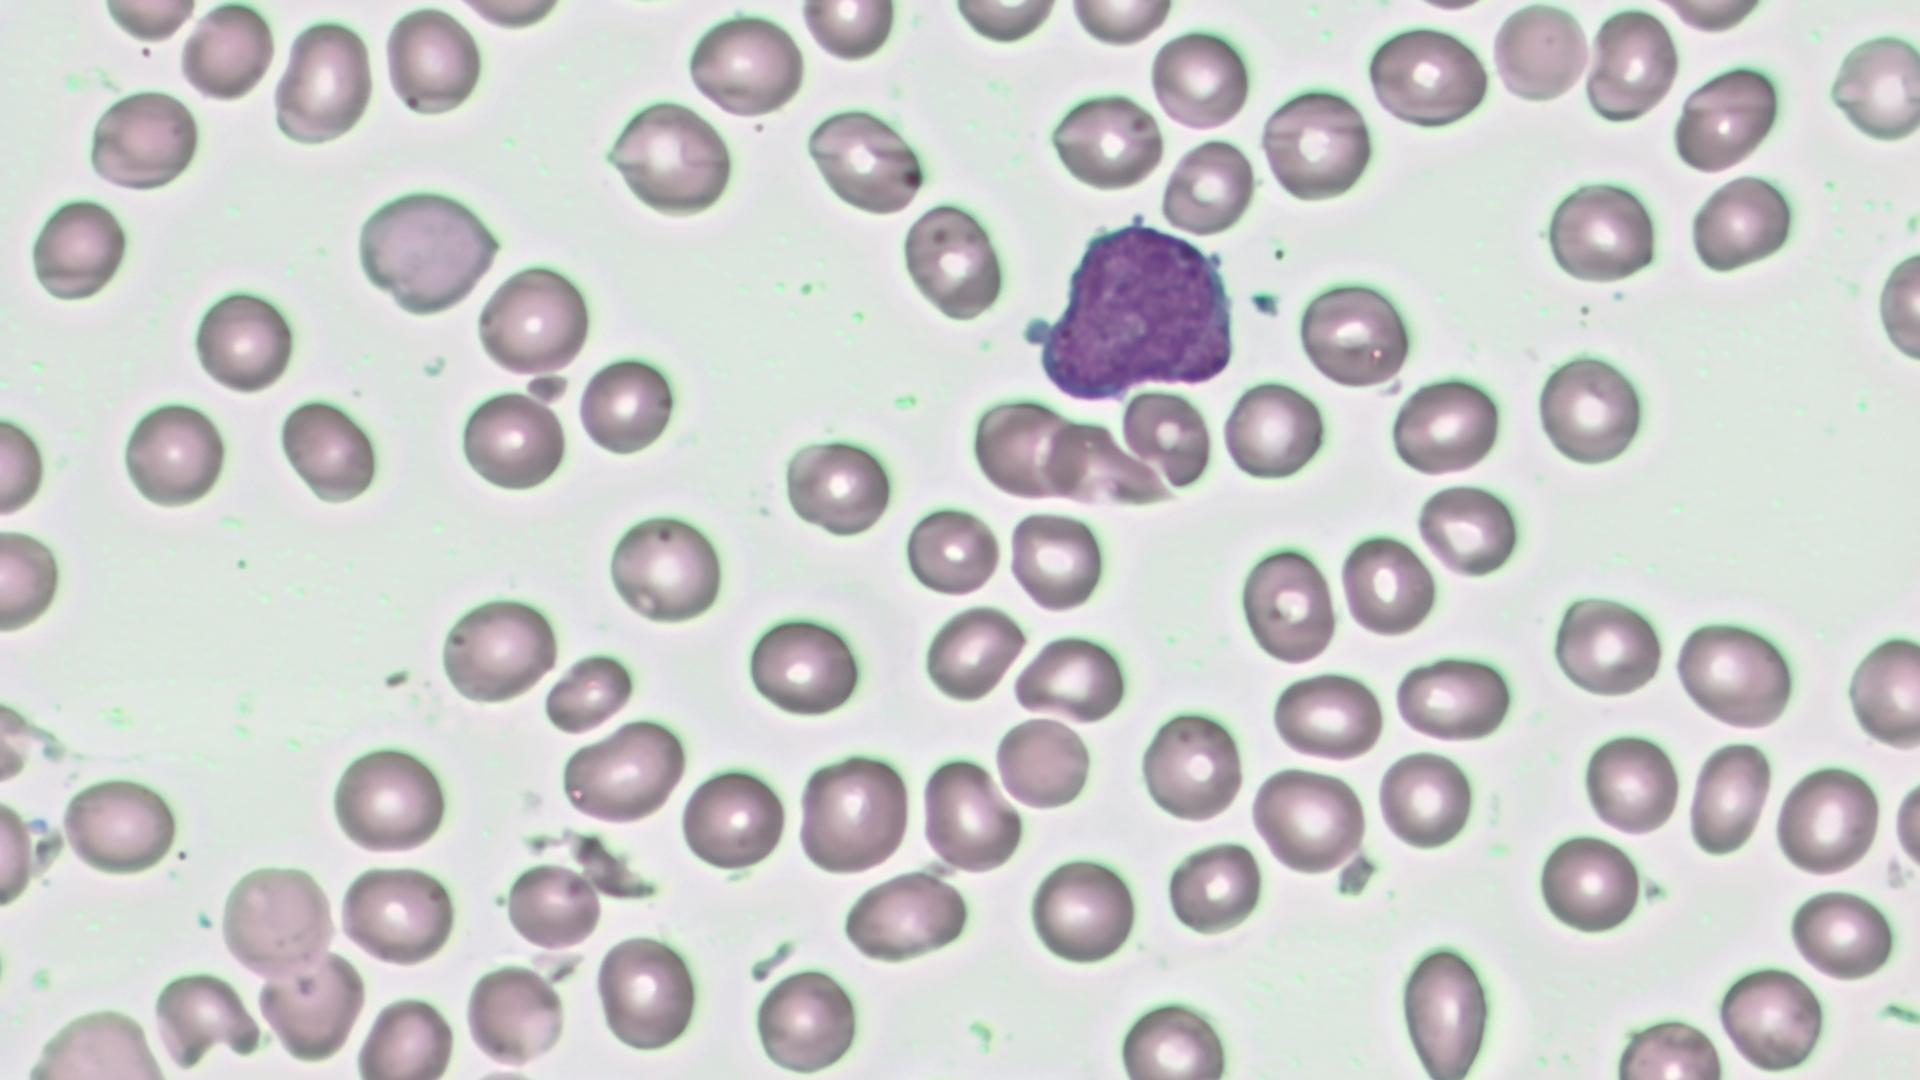RBC: (352, 182, 502, 319), (599, 94, 736, 222), (794, 746, 914, 880), (1672, 611, 1797, 735), (800, 102, 932, 218), (555, 715, 688, 828), (603, 506, 727, 628), (326, 740, 454, 856), (434, 589, 560, 705), (475, 258, 595, 380), (1258, 82, 1375, 206), (1534, 347, 1650, 469), (272, 15, 377, 148), (218, 860, 334, 978), (58, 770, 179, 884), (255, 942, 367, 1064), (592, 928, 702, 1054), (1396, 938, 1495, 1076), (1713, 957, 1830, 1073), (1247, 764, 1366, 878), (1540, 174, 1660, 287), (82, 84, 204, 195), (335, 860, 458, 971), (898, 198, 1006, 323), (1295, 276, 1415, 388), (1029, 851, 1141, 971), (748, 963, 864, 1077), (1137, 704, 1246, 825), (918, 752, 1025, 876), (1669, 61, 1784, 175), (777, 430, 895, 541), (1545, 589, 1664, 700), (683, 11, 803, 120), (837, 866, 972, 964), (744, 611, 865, 719), (1774, 760, 1882, 880), (1044, 88, 1166, 195), (1367, 21, 1489, 128), (455, 384, 570, 496), (189, 284, 299, 398), (117, 398, 228, 513), (1389, 371, 1505, 480), (678, 764, 789, 877), (1236, 541, 1336, 665), (1534, 827, 1644, 938), (971, 396, 1084, 502), (574, 349, 682, 460), (1220, 375, 1328, 485), (1684, 170, 1797, 276), (381, 5, 487, 119), (150, 964, 260, 1072), (1009, 630, 1130, 727), (274, 396, 380, 505), (462, 960, 566, 1071), (26, 194, 131, 305), (1337, 527, 1439, 641), (1036, 413, 1154, 510), (1389, 650, 1514, 741), (1782, 884, 1902, 978), (1269, 669, 1389, 764), (1824, 29, 1920, 146), (1149, 25, 1251, 135), (1684, 736, 1774, 860), (1112, 993, 1238, 1080), (1489, 1, 1592, 108), (1584, 7, 1677, 123), (1375, 746, 1477, 852), (1006, 506, 1108, 612), (1581, 729, 1680, 837), (1118, 385, 1215, 495), (919, 603, 1025, 700), (1162, 836, 1265, 934), (178, 3, 276, 105), (1414, 483, 1519, 578), (1158, 136, 1257, 236), (992, 713, 1093, 811), (1842, 626, 1917, 752), (902, 504, 1000, 599), (504, 860, 603, 951), (352, 992, 456, 1077), (539, 647, 638, 735), (0, 524, 65, 636), (1873, 235, 1920, 378), (794, 3, 899, 66), (1060, 0, 1178, 47), (0, 404, 47, 520), (940, 0, 1065, 44), (90, 0, 204, 44), (1887, 760, 1920, 899), (0, 789, 36, 916), (1648, 0, 1772, 34), (450, 0, 571, 32)
WBC: (1029, 214, 1246, 405)
